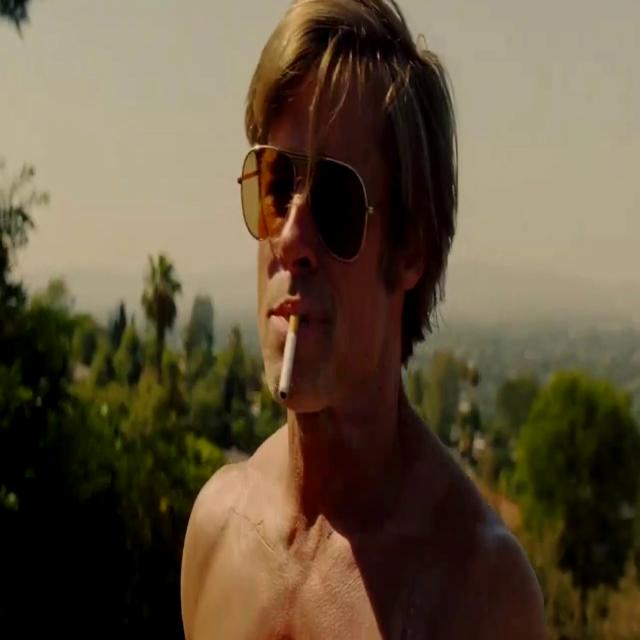Smooking: (275, 301, 305, 405)
